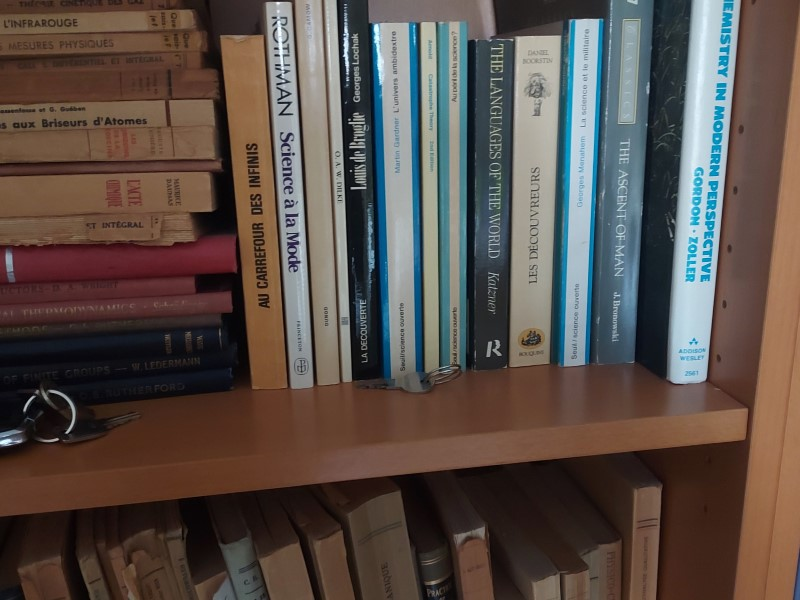carkey: (0, 407, 41, 452)
key: (61, 405, 143, 448), (353, 366, 431, 395)
